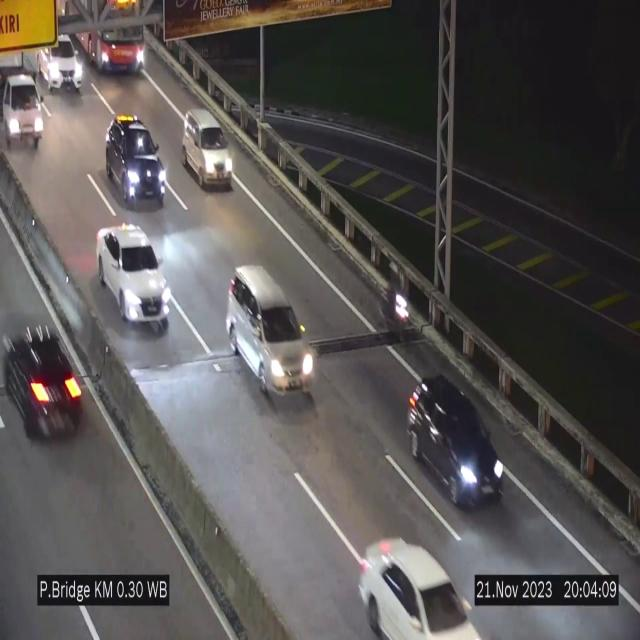Bus: (56, 0, 148, 76)
Car: (354, 527, 484, 640), (407, 372, 505, 506), (226, 266, 314, 406), (0, 305, 87, 434), (97, 224, 169, 329), (106, 114, 168, 210), (182, 109, 233, 190), (32, 25, 86, 95)
Motorcycle: (381, 254, 407, 348)
Truck: (0, 48, 41, 152)
